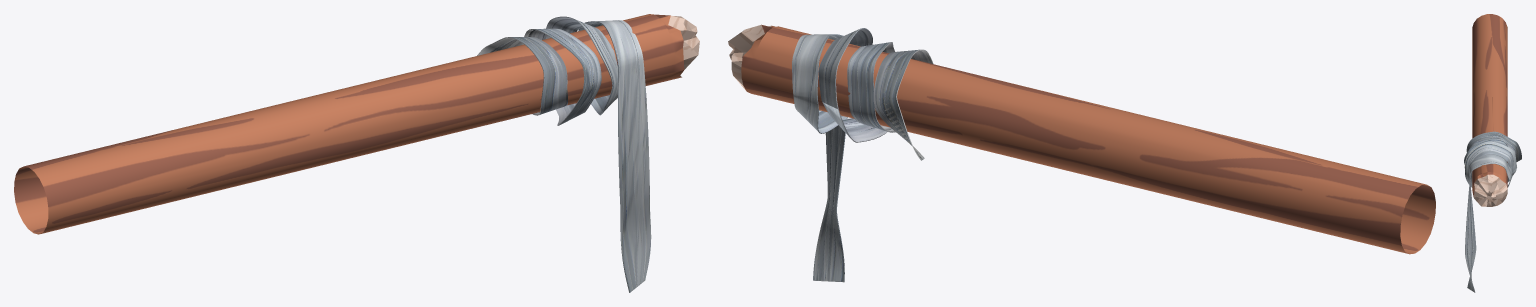
3 views of the same model, side by side, from view 1: azimuth 30°, elevation 25°; view 2: azimuth 150°, elevation 25°; view 3: azimuth 270°, elevation 25° (orthographic). The views are drawn at different scales.
Parts seen in each view (by area): view 1: 木头_obj, 扫描; view 2: 木头_obj, 扫描; view 3: 木头_obj, 扫描.
Boxes of the visible parts, x1,y1,x2,y2 form: 木头_obj: (14, 14, 699, 234); 扫描: (477, 16, 651, 292); 木头_obj: (728, 24, 1435, 254); 扫描: (792, 28, 933, 282); 木头_obj: (1472, 14, 1507, 206); 扫描: (1464, 131, 1521, 292).
Bounding box in the file's own units: 98.49 × 37.62 × 14.33.
Materials: 2 (2 with a texture image).
